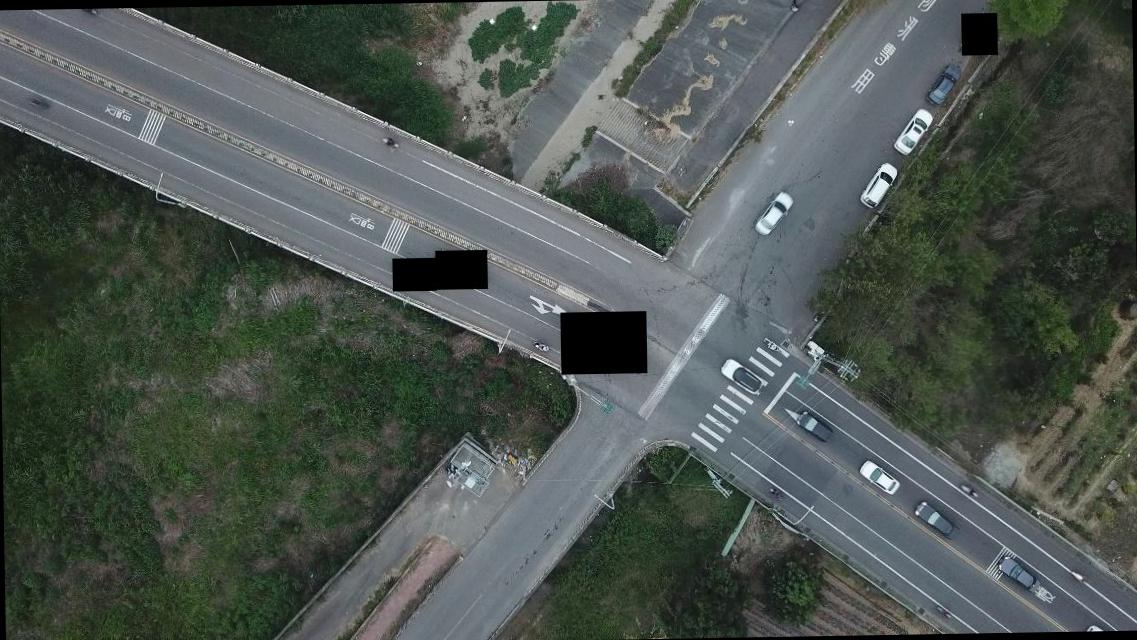vehicle: (752, 190, 794, 237), (915, 501, 963, 542), (859, 160, 898, 209), (997, 556, 1043, 596), (894, 108, 932, 156), (721, 358, 766, 397), (857, 457, 900, 495), (792, 409, 835, 446), (926, 63, 962, 105)
